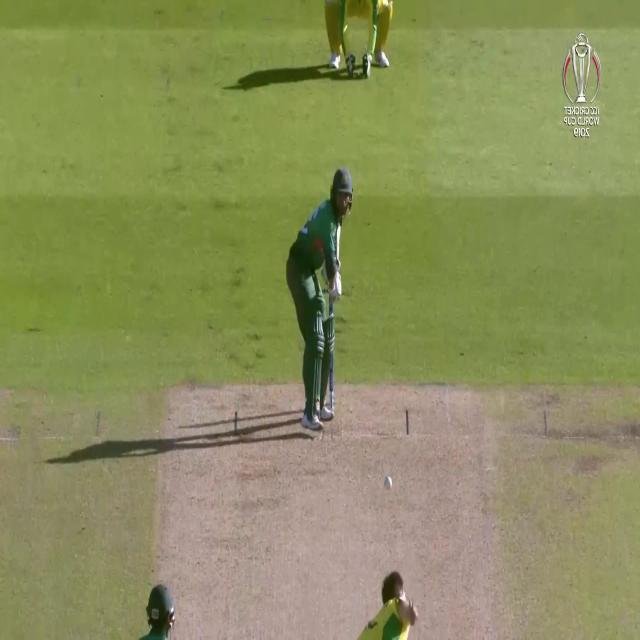ball: (381, 474, 396, 493)
